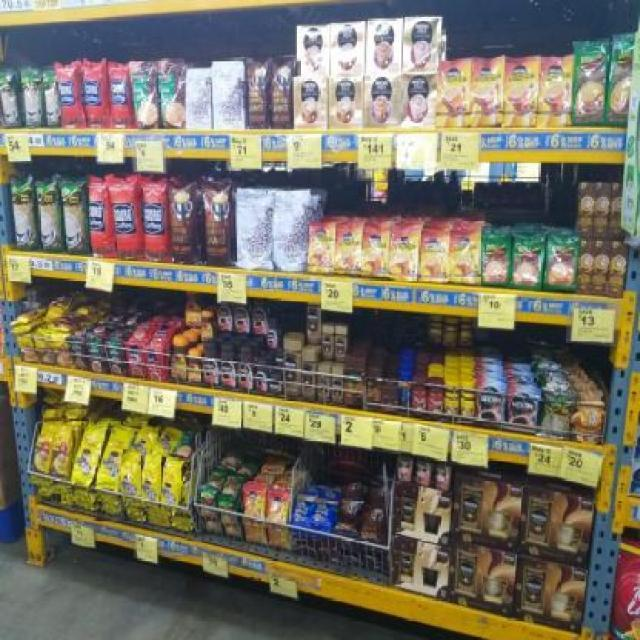Coffee: (537, 58, 573, 127), (470, 57, 506, 125), (503, 60, 539, 124), (437, 60, 470, 127), (449, 232, 480, 285), (419, 234, 449, 284), (362, 230, 390, 278), (391, 232, 418, 280), (335, 226, 361, 273), (510, 390, 537, 434), (309, 225, 333, 273), (479, 386, 503, 429), (285, 340, 301, 398), (204, 343, 220, 387), (220, 344, 236, 388), (238, 345, 254, 389), (302, 349, 316, 399), (245, 485, 265, 517), (269, 492, 288, 523), (185, 292, 201, 328), (173, 340, 187, 380), (307, 304, 320, 345), (255, 360, 269, 394), (318, 366, 331, 400), (332, 368, 344, 404), (188, 354, 201, 384), (322, 326, 333, 360), (336, 327, 347, 361), (201, 312, 213, 342), (269, 375, 282, 393), (273, 351, 282, 368)
